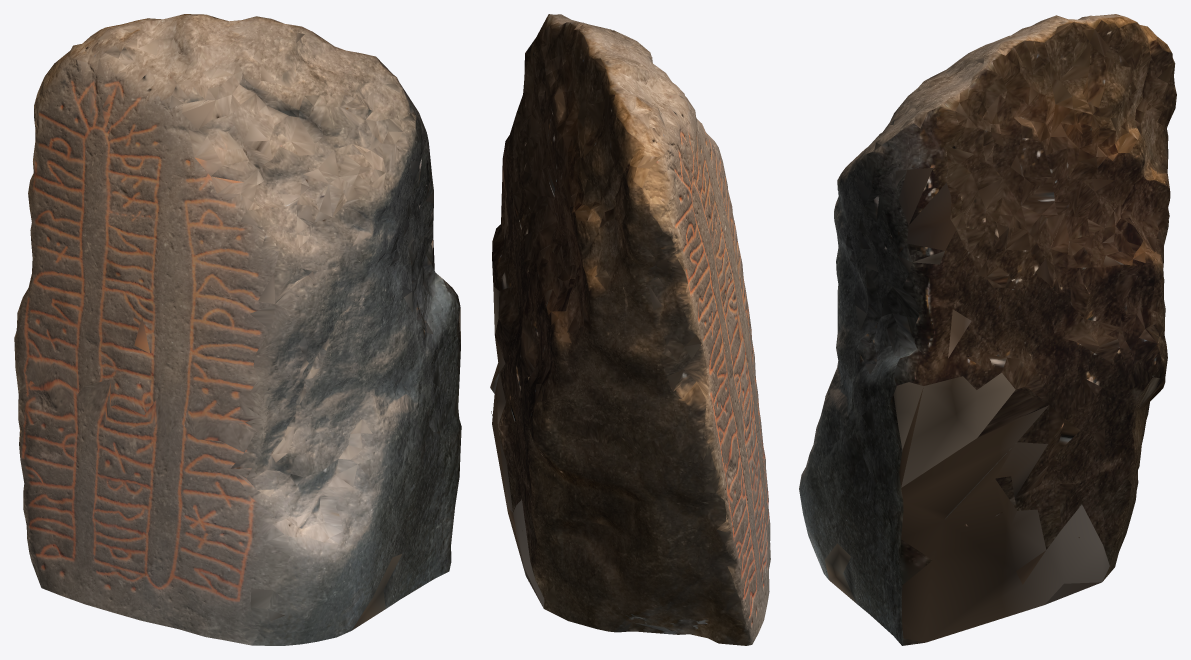
File: asferg_runestone.glb
The picture shows the model from 3 angles, left to right: view 1: azimuth 30°, elevation 25°; view 2: azimuth 150°, elevation 25°; view 3: azimuth 270°, elevation 25°; orthographic projection.
Visible parts, largest first — view 1: Object_2; view 2: Object_2; view 3: Object_2.
Boxes of the visible parts, x1=… form: Object_2: x1=14, y1=14, x2=461, y2=645; Object_2: x1=490, y1=14, x2=770, y2=645; Object_2: x1=799, y1=14, x2=1176, y2=645.
Bounding box in the file's own units: 13.12 × 20.11 × 12.71.
1 material, 1 textured.
